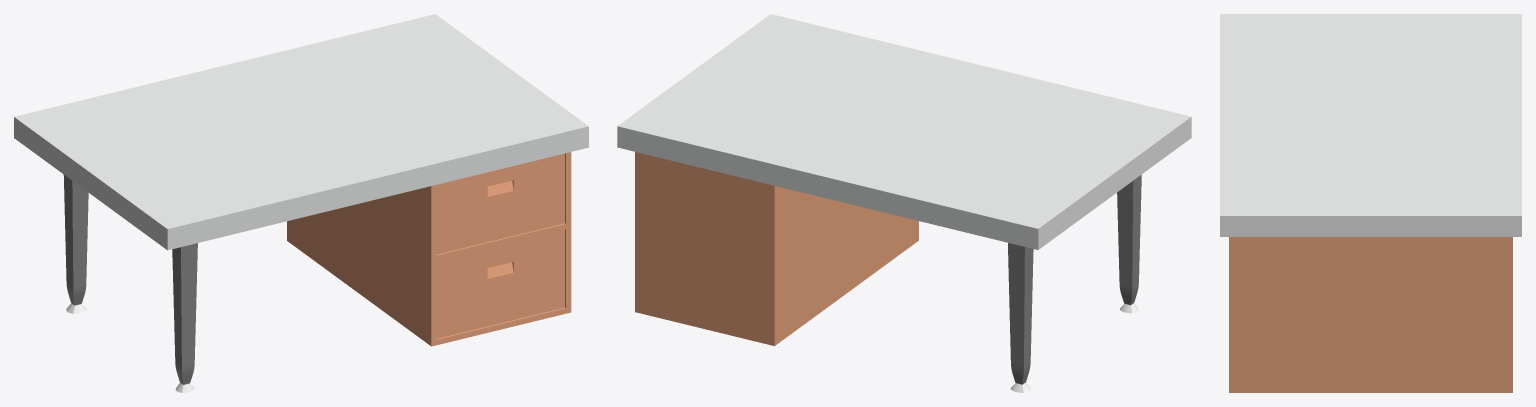
Rendered from Desk.fbx.
3 views of the same model, side by side, from view 1: azimuth 30°, elevation 25°; view 2: azimuth 150°, elevation 25°; view 3: azimuth 270°, elevation 25° (orthographic).
Parts seen in each view (by area): view 1: Desk; view 2: Desk; view 3: Desk.
Part boxes in pixels (x1,y1,x2,y2): Desk: (14, 14, 588, 392); Desk: (617, 14, 1191, 392); Desk: (1220, 14, 1521, 392).
Size of the model in its own units: 3.26 by 1.38 by 2.06.
3 materials, 3 textured.
